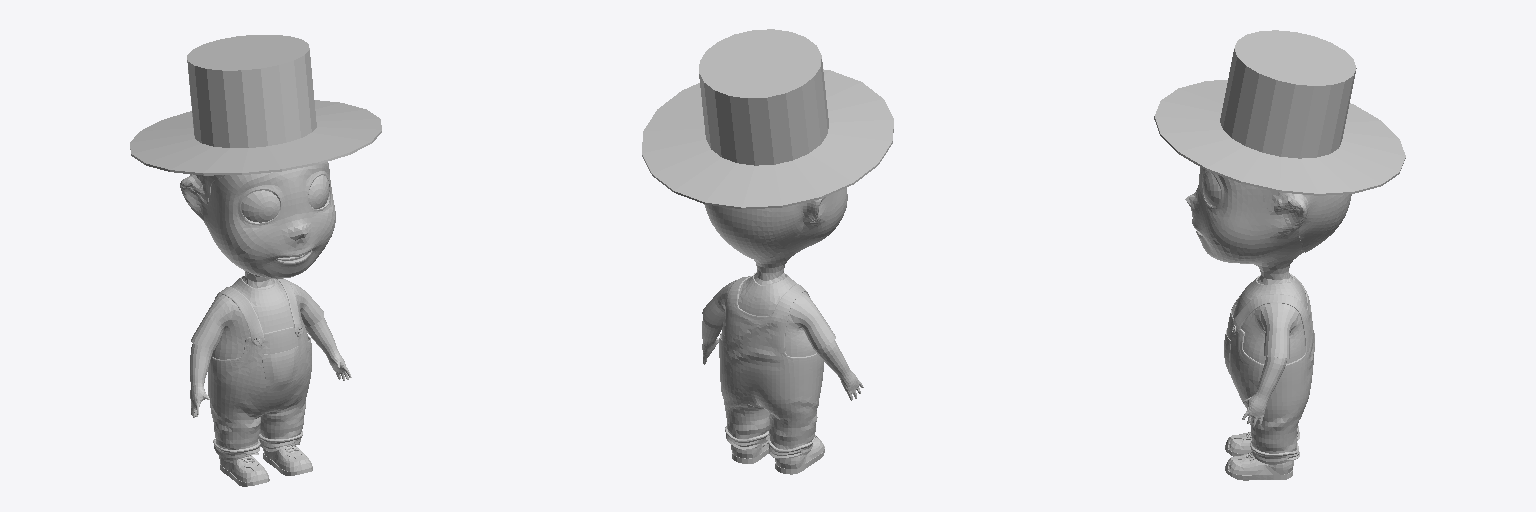
The picture shows the model from 3 angles: view 1: azimuth 30°, elevation 25°; view 2: azimuth 150°, elevation 25°; view 3: azimuth 270°, elevation 25°; orthographic projection.
Parts seen in each view (by area): view 1: hat_red_메쉬.025, Body_메쉬.010, jeans_메쉬.004, T_shirt_in_메쉬.020, cloth_01_메쉬.021, R_eye_메쉬.012, R_shoe_p1_메쉬.008, L_shoe_p1_메쉬.023, L_eye_메쉬.013; view 2: hat_red_메쉬.025, jeans_메쉬.004, T_shirt_in_메쉬.020, Body_메쉬.010, Hairs_메쉬.011, R_shoe_p1_메쉬.008; view 3: hat_red_메쉬.025, Body_메쉬.010, jeans_메쉬.004, T_shirt_in_메쉬.020, Hairs_메쉬.011, L_shoe_p1_메쉬.023.
Boxes of the visible parts, x1,y1,x2,y2 form: hat_red_메쉬.025: [130, 35, 381, 175]; Body_메쉬.010: [180, 162, 351, 417]; jeans_메쉬.004: [208, 278, 311, 449]; T_shirt_in_메쉬.020: [191, 276, 323, 359]; cloth_01_메쉬.021: [262, 346, 298, 390]; R_eye_메쉬.012: [241, 190, 279, 222]; R_shoe_p1_메쉬.008: [219, 455, 268, 482]; L_shoe_p1_메쉬.023: [263, 446, 312, 471]; L_eye_메쉬.013: [308, 175, 329, 208]; hat_red_메쉬.025: [642, 29, 893, 209]; jeans_메쉬.004: [719, 276, 823, 449]; T_shirt_in_메쉬.020: [702, 272, 835, 356]; Body_메쉬.010: [702, 188, 863, 400]; Hairs_메쉬.011: [704, 203, 804, 259]; R_shoe_p1_메쉬.008: [775, 435, 824, 468]; hat_red_메쉬.025: [1154, 30, 1405, 195]; Body_메쉬.010: [1185, 167, 1308, 426]; jeans_메쉬.004: [1227, 276, 1314, 453]; T_shirt_in_메쉬.020: [1233, 274, 1307, 364]; Hairs_메쉬.011: [1259, 188, 1351, 252]; L_shoe_p1_메쉬.023: [1226, 453, 1293, 474].
Bounding box in the file's own units: 0.5105 × 0.9158 × 0.5035.